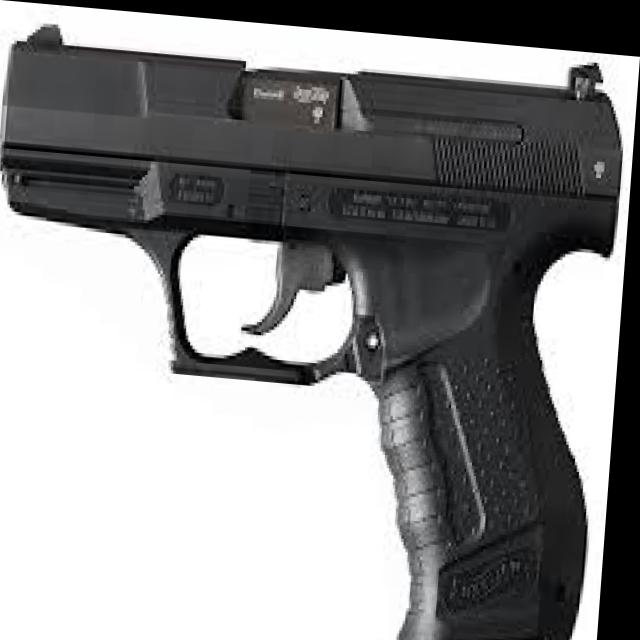handgun: (0, 14, 622, 640)
